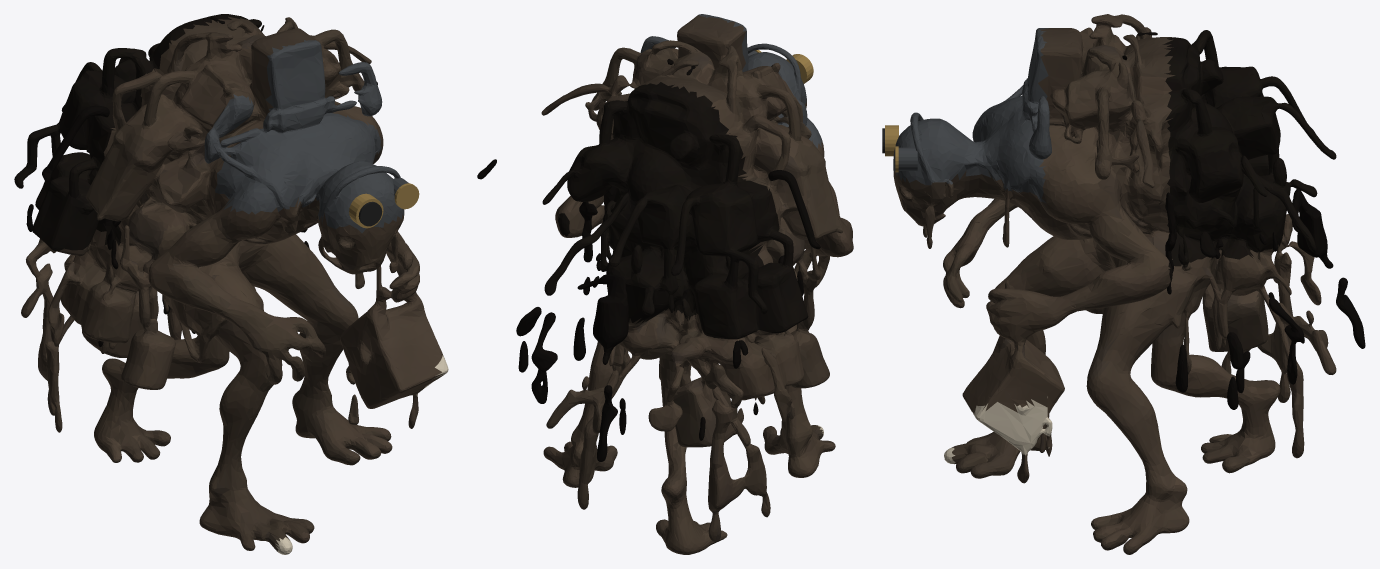
File: collector_generated_v1.glb
The picture shows the model from 3 angles, left to right: view 1: azimuth 30°, elevation 25°; view 2: azimuth 150°, elevation 25°; view 3: azimuth 270°, elevation 25°; orthographic projection. The views are drawn at different scales.
Parts seen in each view (by area): view 1: Collector_Generated; view 2: Collector_Generated; view 3: Collector_Generated.
Part boxes in pixels (box(x1,y1,x2,y2)): Collector_Generated: box(14, 14, 448, 554); Collector_Generated: box(477, 14, 853, 554); Collector_Generated: box(882, 14, 1365, 554).
Size of the model in its own units: 1.56 by 2 by 1.92.
7 materials, 3 textured.
